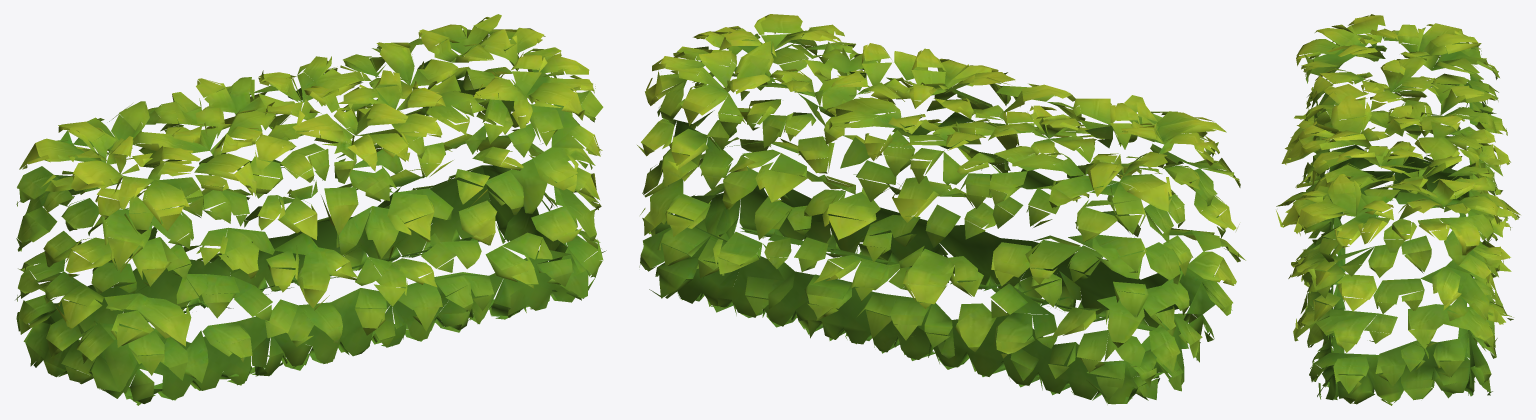
File: hedge.glb
3 views of the same model, side by side, from view 1: azimuth 30°, elevation 25°; view 2: azimuth 150°, elevation 25°; view 3: azimuth 270°, elevation 25° (orthographic). The views are drawn at different scales.
Parts seen in each view (by area): view 1: hedge; view 2: hedge; view 3: hedge.
Part boxes in pixels (x1,y1,x2,y2): hedge: (15,14,606,405); hedge: (637,14,1245,404); hedge: (1276,14,1520,405).
Size of the model in its own units: 1.61 by 0.6855 by 0.7536.
Materials: 1 (1 with a texture image).
